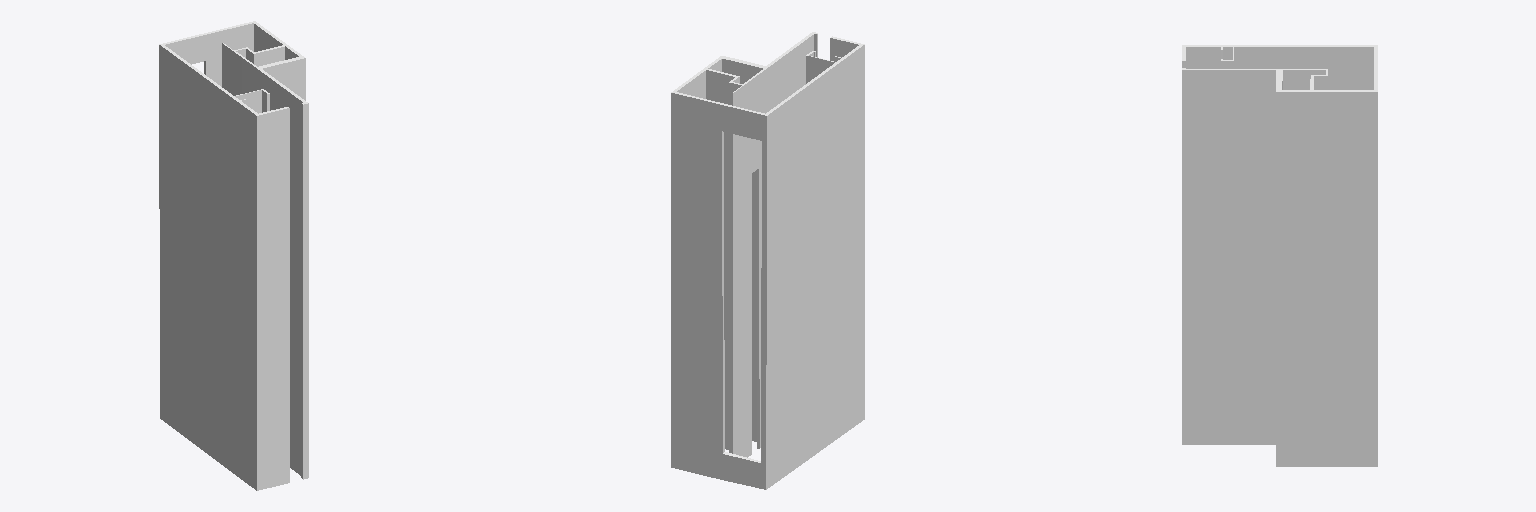
File: Walls.obj
3 renders of one model, left to right at view 1: azimuth 30°, elevation 25°; view 2: azimuth 150°, elevation 25°; view 3: azimuth 270°, elevation 25°, orthographic.
Parts seen in each view (by area): view 1: Walls; view 2: Walls; view 3: Walls.
Part boxes in pixels (x1,y1,x2,y2): Walls: (159,21,308,490); Walls: (671,32,864,489); Walls: (1182,45,1377,466).
Size of the model in its own units: 7.08 by 26.44 by 12.5.